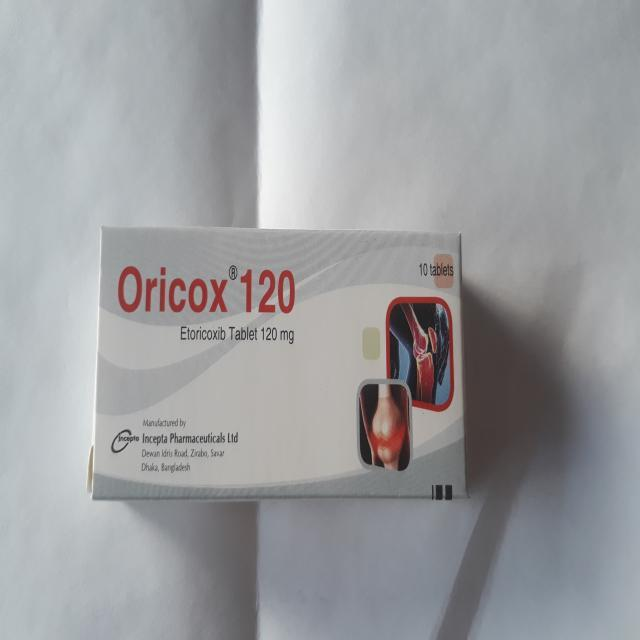drug-name: (116, 262, 300, 316)
